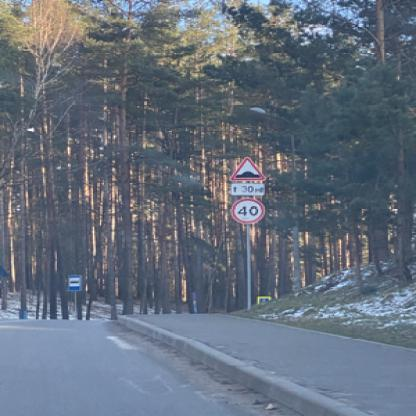speedlimit: (229, 198, 262, 222)
